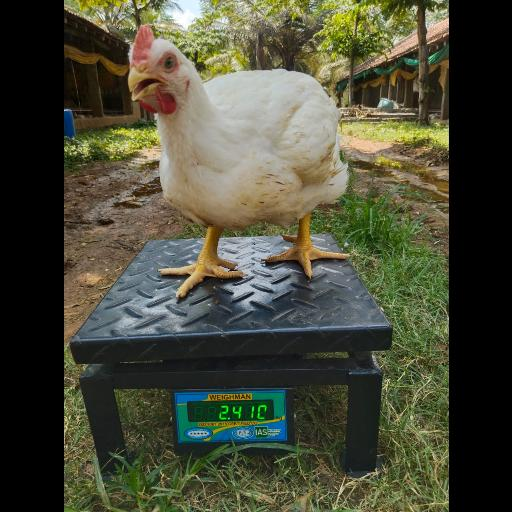chick: (129, 26, 349, 298)
